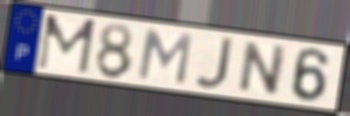6: (290, 46, 333, 105)
8: (93, 21, 139, 80)
J: (192, 36, 237, 92)
M: (35, 13, 99, 76), (135, 27, 195, 87)
N: (235, 39, 291, 97)
